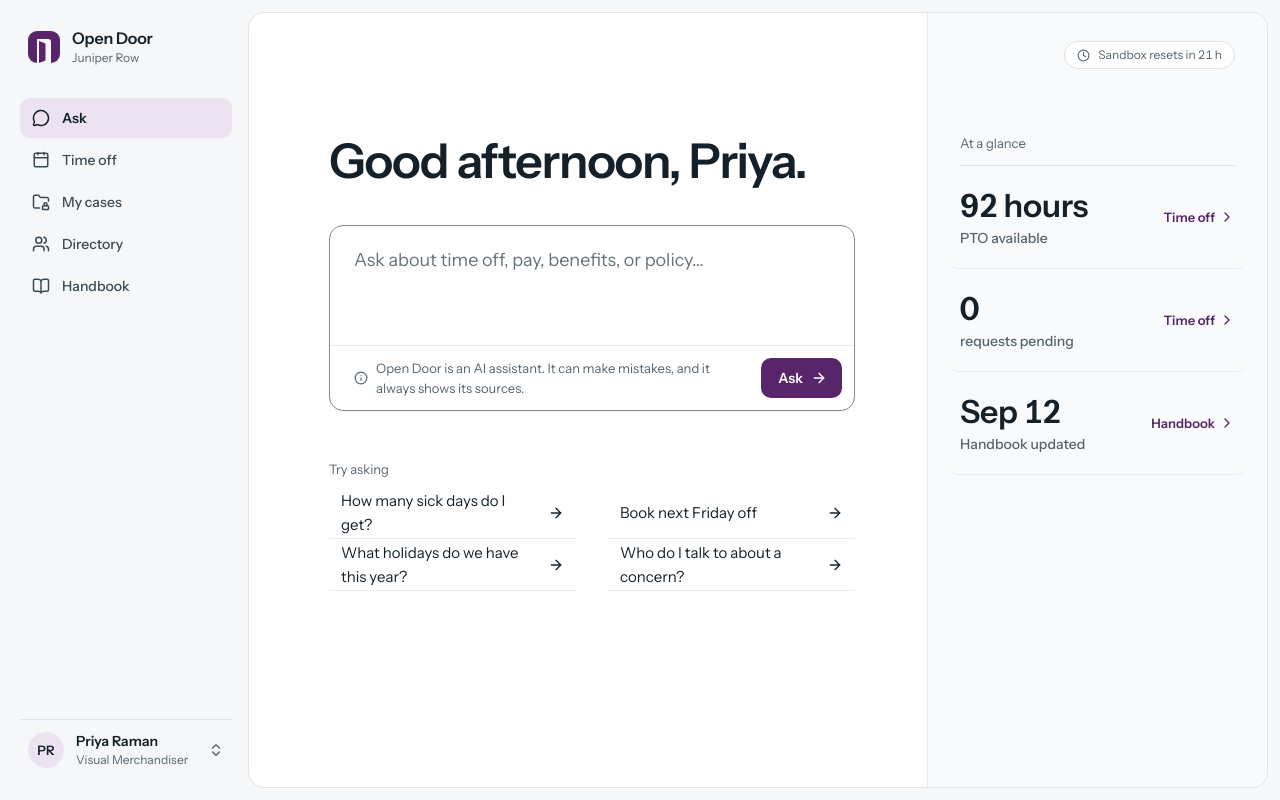
Test case: a new question while the stopped answer waits for its saved copy › keeps the stopped answer on the page, before the new question and its answer
Type "Sick days?" into the text box named "Ask Open Door".
click(592, 282); type("Sick days?")  # box [330,226,854,338]
Then press Enter
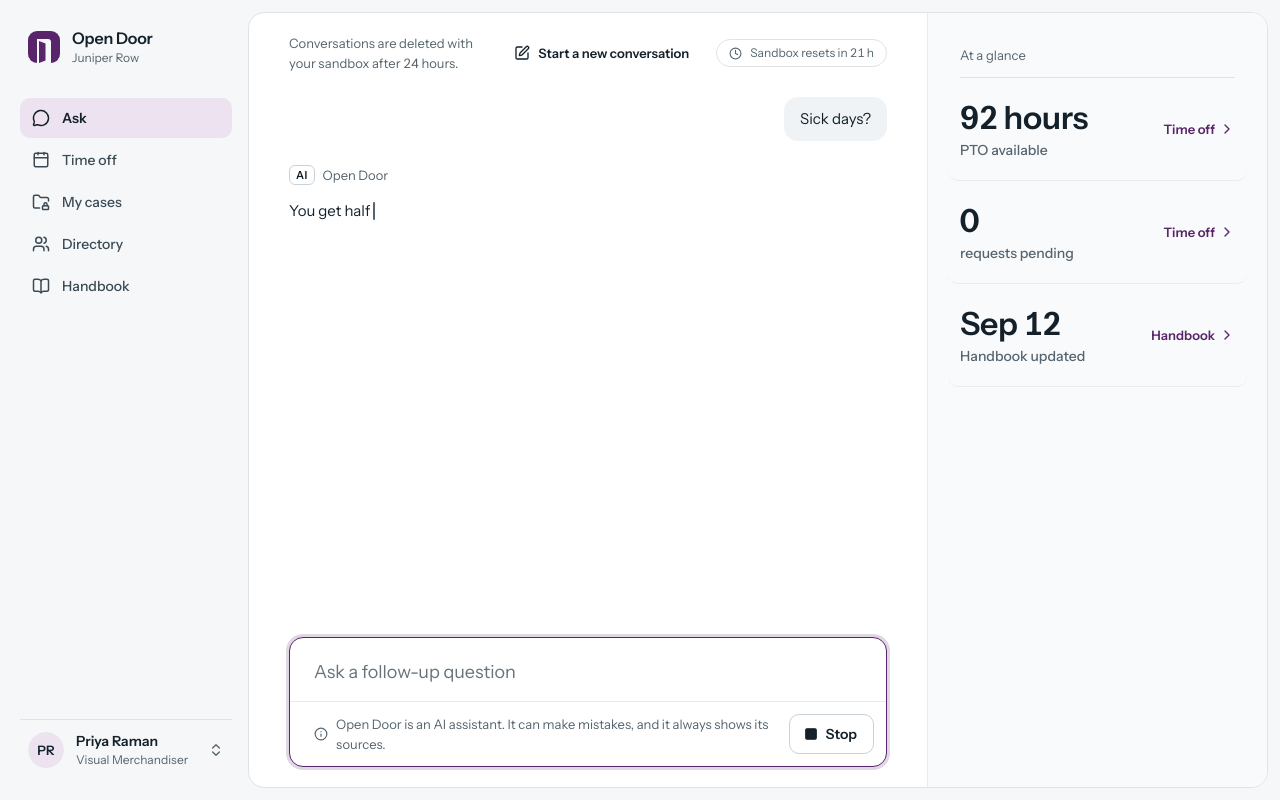
Expected: the text "You get half" is shown, [289,201,375,220]
Click the button "Stop".
click(831, 734)  # box [789,714,874,754]
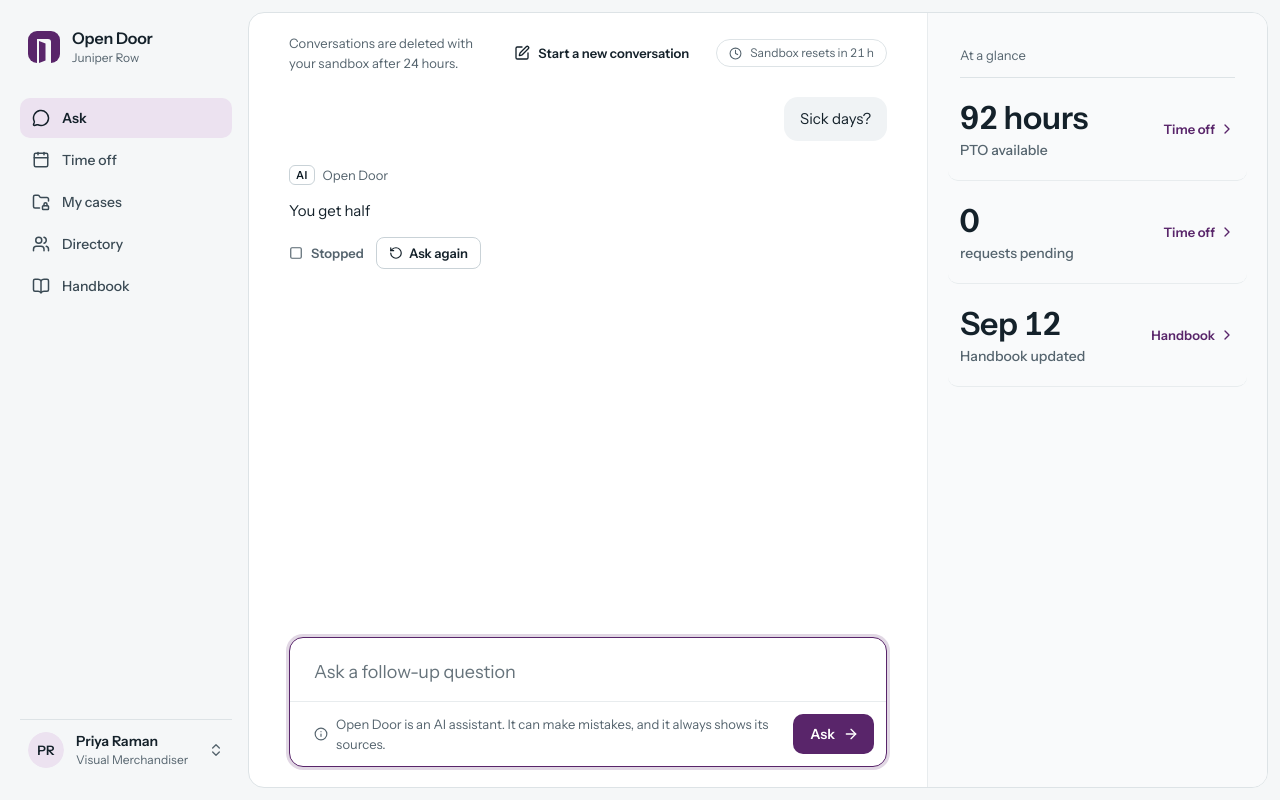
Expected: the text "Stopped" is shown, [289,243,364,263]
Type "And carry-over?" into the text box named "Ask Open Door".
click(588, 666); type("And carry-over?")  # box [290,638,886,694]
Then press Enter
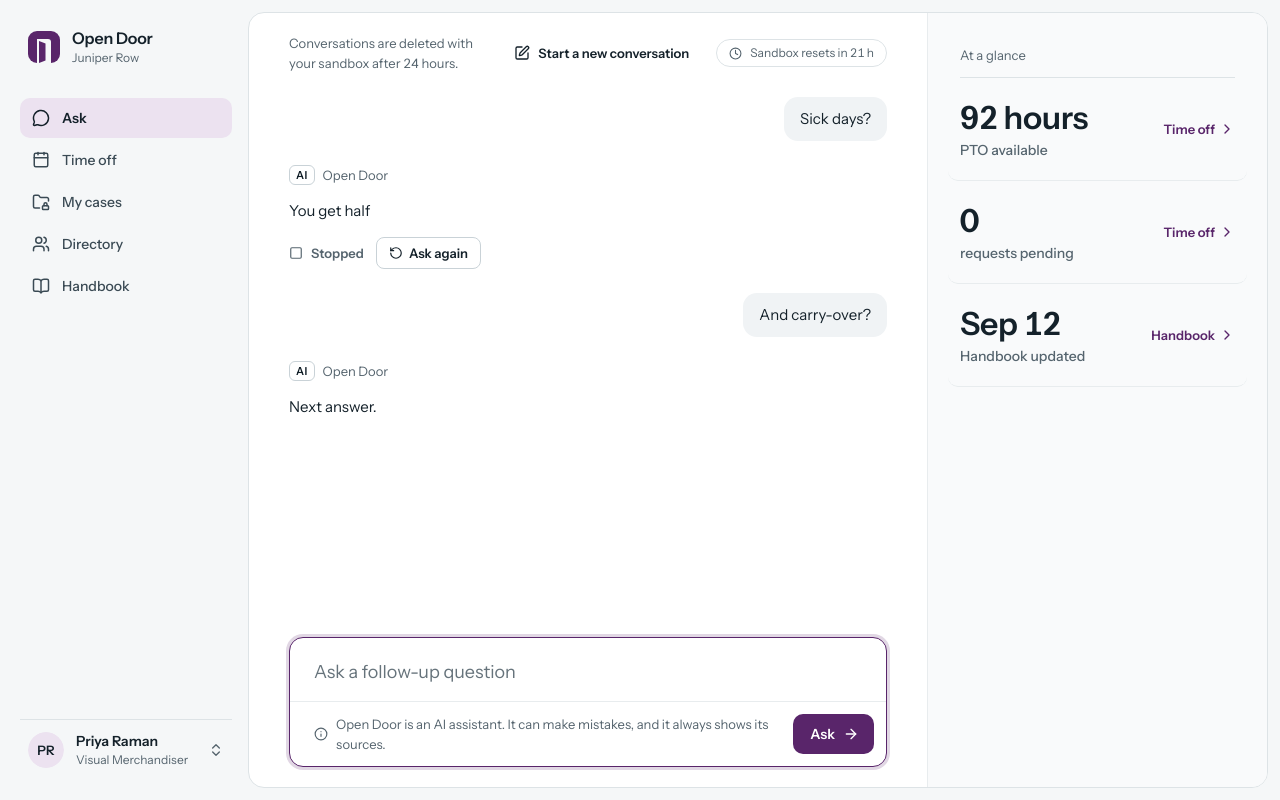
Expected: the text "You get half" is shown, [289,201,370,220]
Expected: the text "Stopped" is shown, [289,243,364,263]
Expected: the text "Next answer." is shown, [289,397,377,416]
